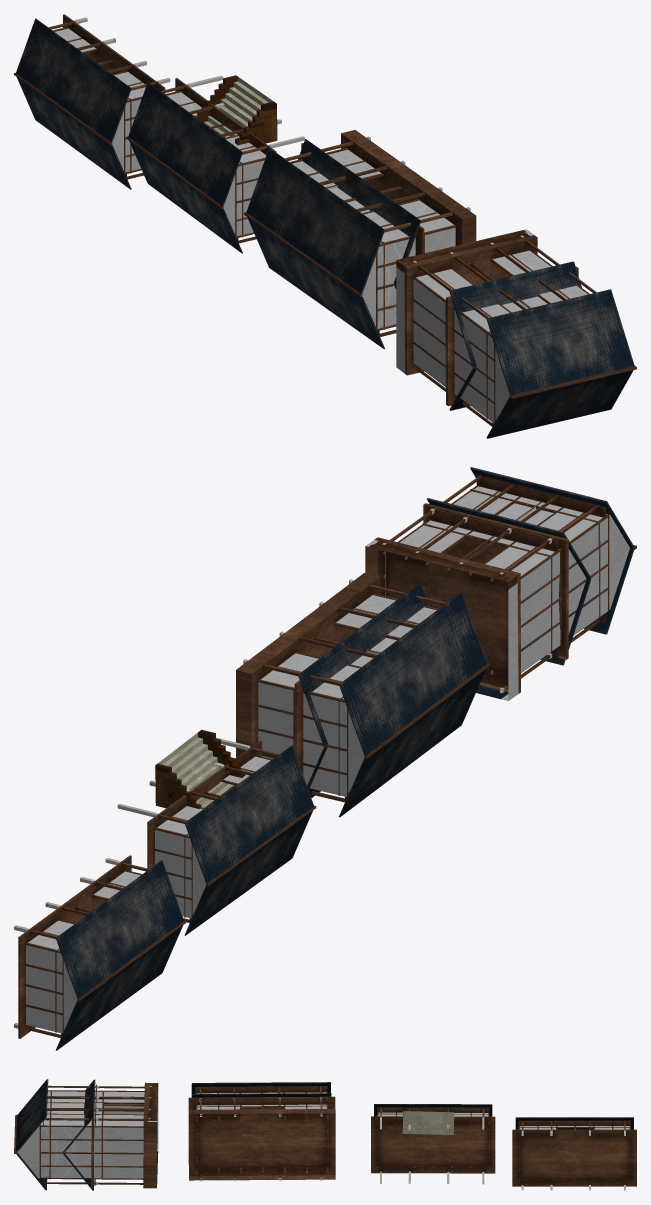
File: Model_AsianHouseRow.glb
3 renders of one model, top to bottom at view 1: azimuth 30°, elevation 25°; view 2: azimuth 150°, elevation 25°; view 3: azimuth 270°, elevation 25°, orthographic. The views are drawn at different scales.
Parts seen in each view (by area): view 1: pCube52_lambert1_0.027_10, pCube52_lambert1_0.002_7, pCube52_lambert1_0.019_6, pCube52_lambert1_0.022_11; view 2: pCube52_lambert1_0.002_7, pCube52_lambert1_0.027_10, pCube52_lambert1_0.019_6, pCube52_lambert1_0.022_11; view 3: pCube52_lambert1_0.002_7, pCube52_lambert1_0.027_10, pCube52_lambert1_0.019_6, pCube52_lambert1_0.022_11.
Part boxes in pixels (bbox=[...]): pCube52_lambert1_0.027_10: bbox=[396, 229, 636, 438]; pCube52_lambert1_0.002_7: bbox=[244, 130, 476, 349]; pCube52_lambert1_0.019_6: bbox=[126, 75, 304, 253]; pCube52_lambert1_0.022_11: bbox=[14, 14, 170, 189]; pCube52_lambert1_0.002_7: bbox=[236, 573, 489, 817]; pCube52_lambert1_0.027_10: bbox=[365, 467, 636, 700]; pCube52_lambert1_0.019_6: bbox=[117, 729, 316, 935]; pCube52_lambert1_0.022_11: bbox=[14, 855, 186, 1050]; pCube52_lambert1_0.002_7: bbox=[188, 1082, 335, 1181]; pCube52_lambert1_0.027_10: bbox=[14, 1079, 158, 1190]; pCube52_lambert1_0.019_6: bbox=[371, 1104, 495, 1184]; pCube52_lambert1_0.022_11: bbox=[512, 1117, 636, 1190].
Bounding box in the file's own units: 1.64 × 1.7 × 10.08.
Materials: 6 (6 with a texture image).
